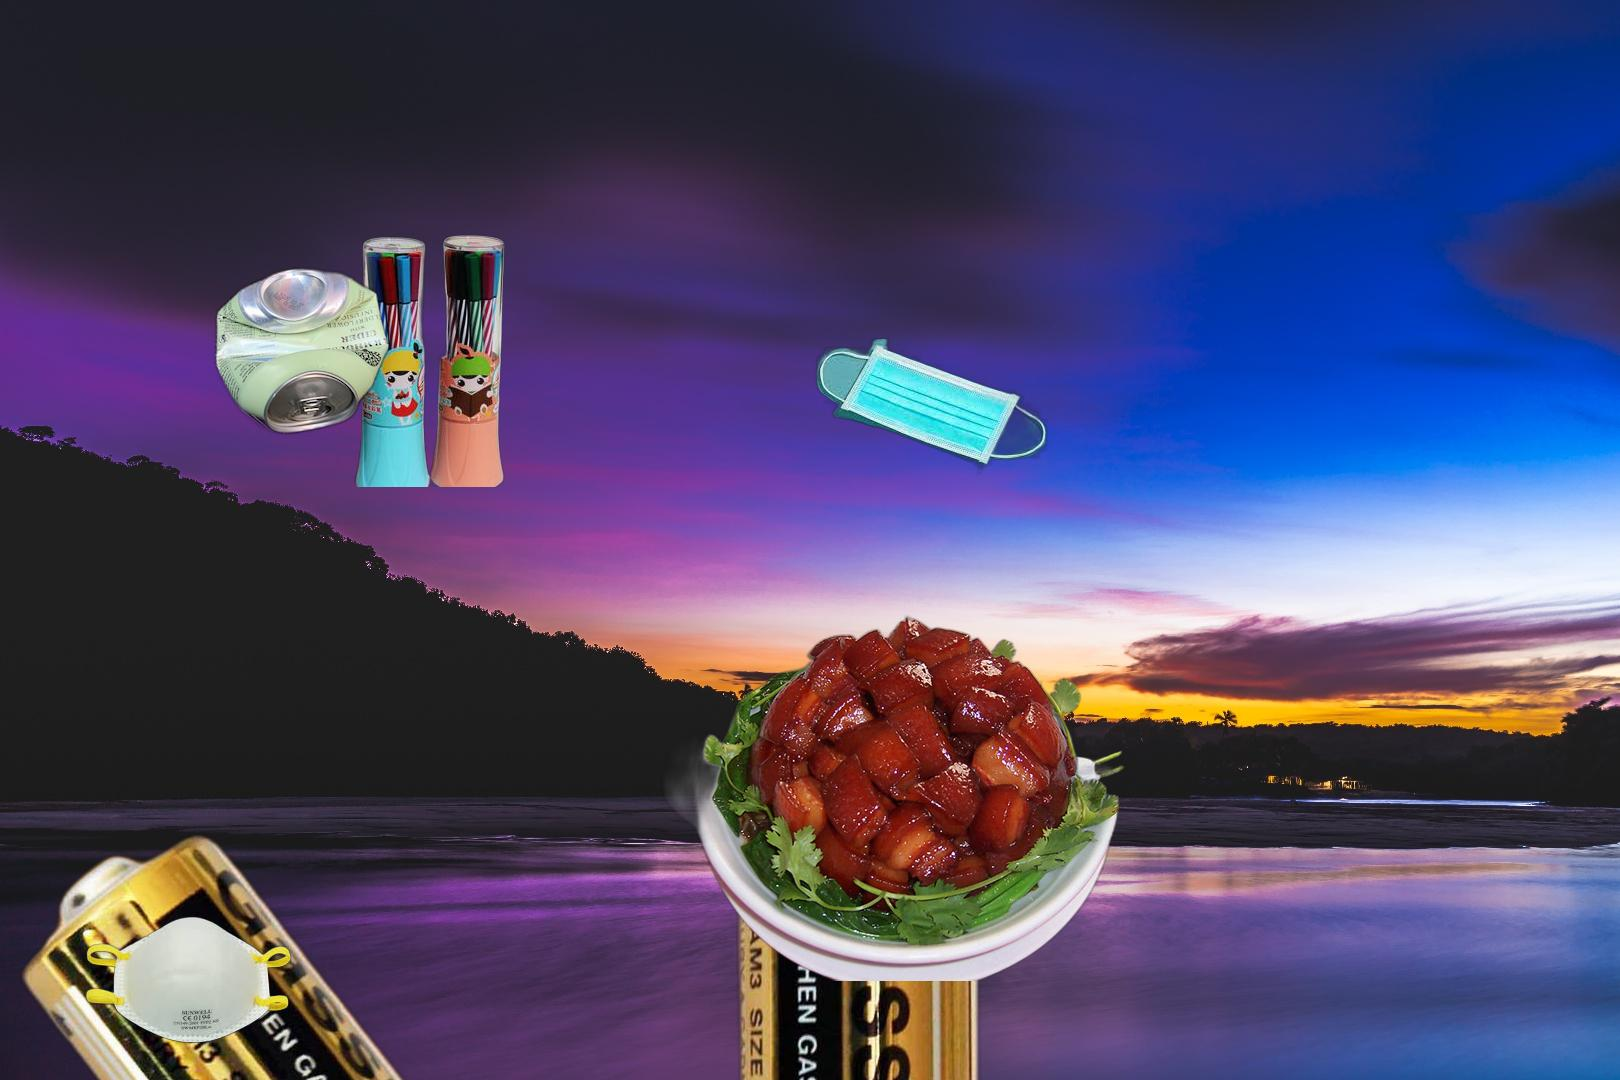battery: (12, 761, 993, 1080)
biological: (658, 614, 1125, 981)
metal-cans: (210, 263, 661, 626)
penholder: (353, 231, 507, 487)
plastic-bag: (945, 747, 1134, 879)
trash: (814, 336, 1050, 477), (83, 914, 294, 1046)
